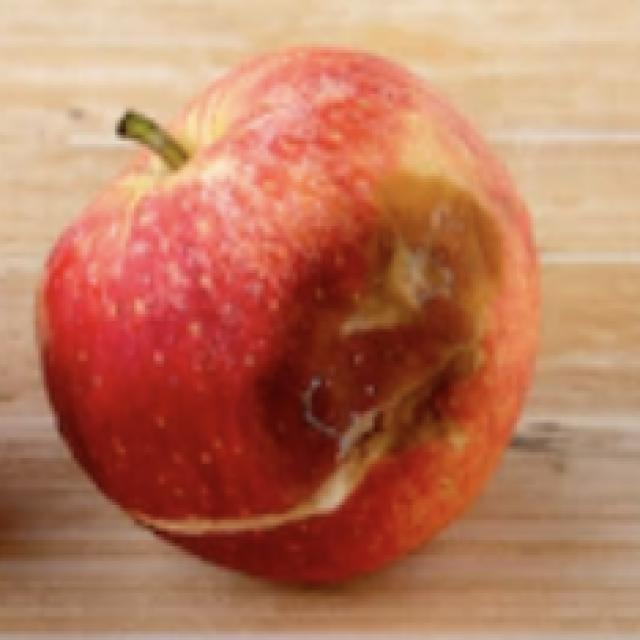Rotten: (35, 39, 542, 588)
